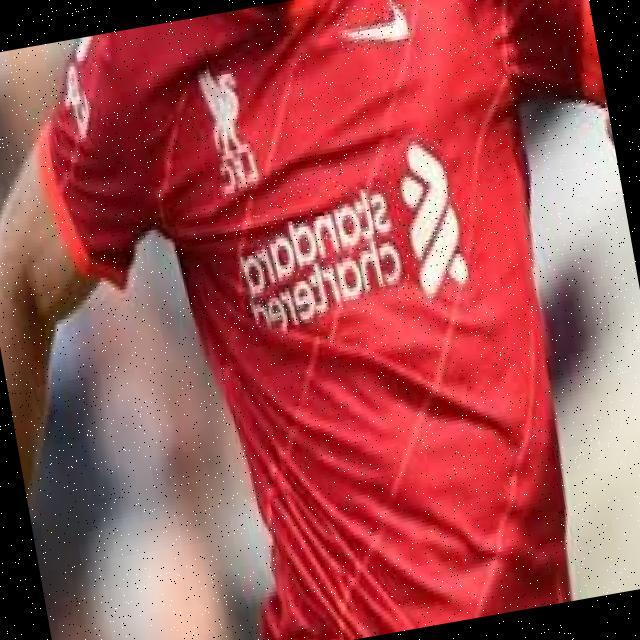Nike: (334, 0, 411, 54)
Standard Chartered: (228, 136, 474, 331)
